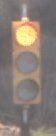Red: (6, 14, 39, 121)
